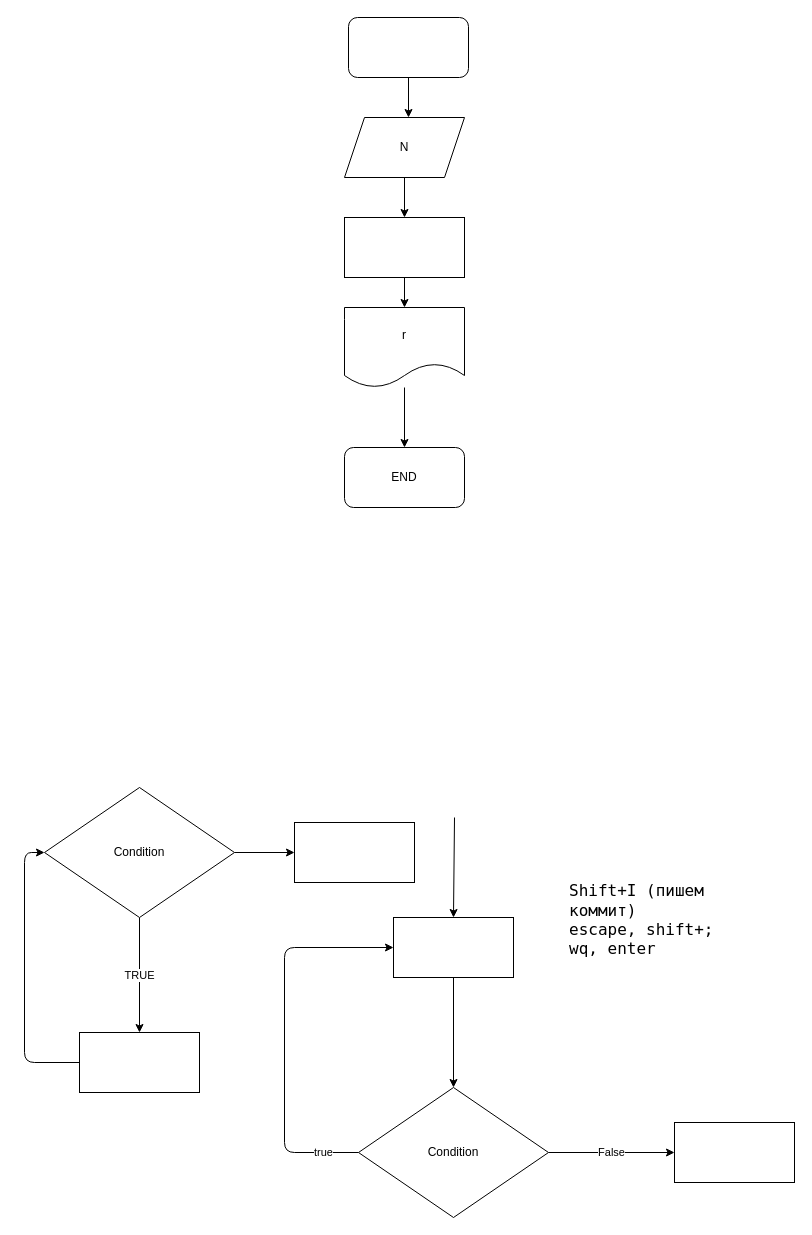
This 812x1235 diagram has some shape labels left out. Here are the shapes that lost their labels. From the top down, the box of each, then its label:
(348, 16, 468, 78): START
(344, 216, 464, 278): r r = random (1,N)
